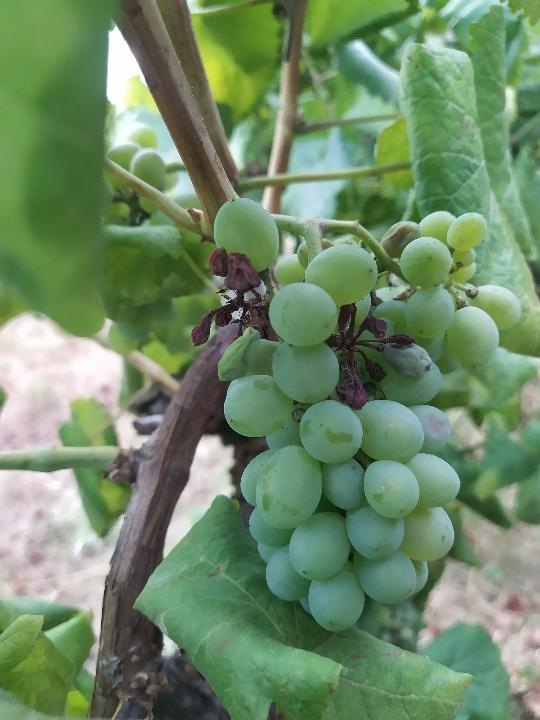grape: (187, 194, 525, 634)
